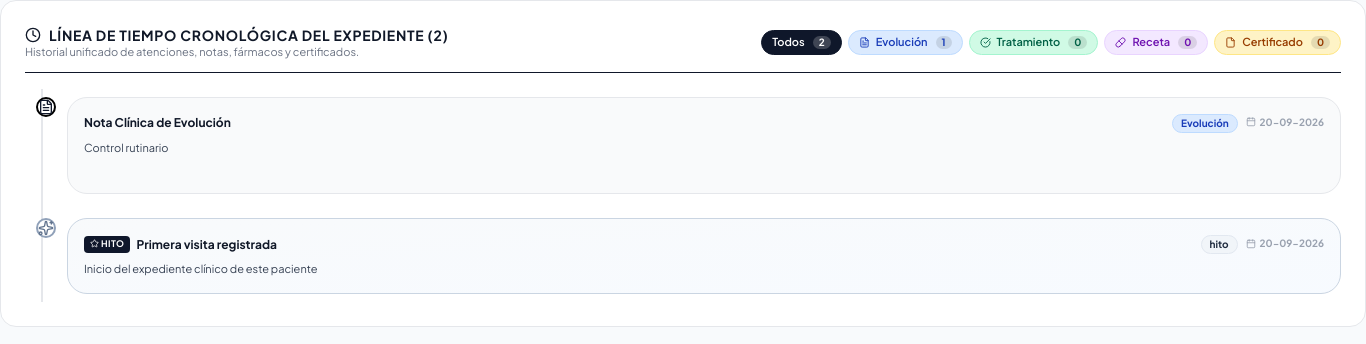
Test case: TimelineClinicoWidget — Estado vacío (F7-26 P4) › filtro con cero resultados muestra mensaje estándar (no CTAs)
Note: Click en filtro "Receta" para forzar cero resultados
Click the tab "Receta 0" at [1156, 42], box [1104,30,1208,55]
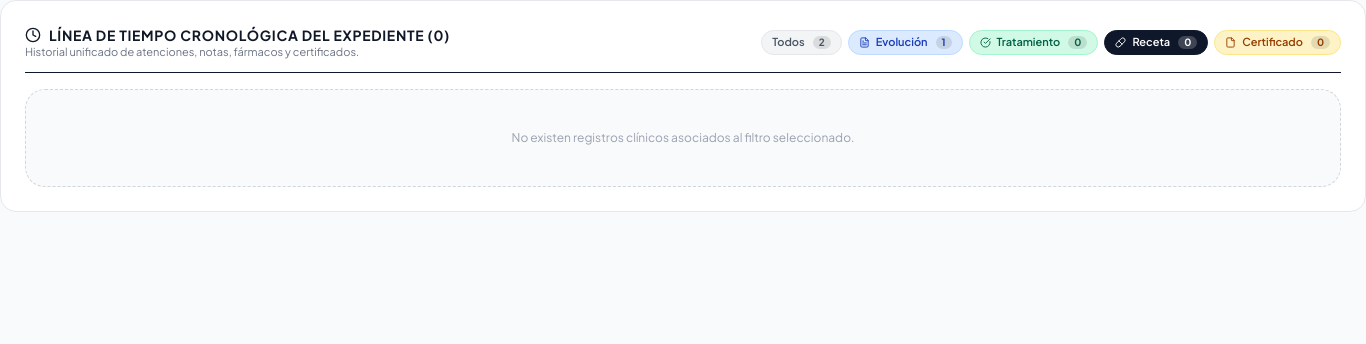
Result: the text "No existen registros clínicos asociados al filtro" is shown at [512,130,854,145]
